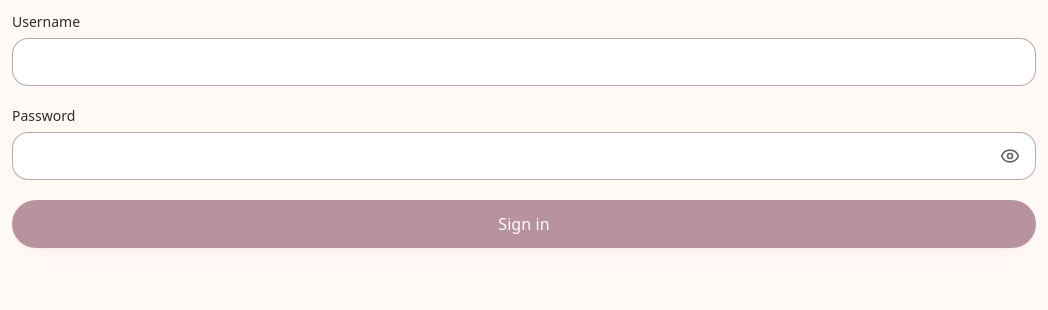
SignInForm › explains wrong credentials without saying which part was wrong
Type "alex" into the field labelled "Username" at (524, 62), box [12, 38, 1036, 86]
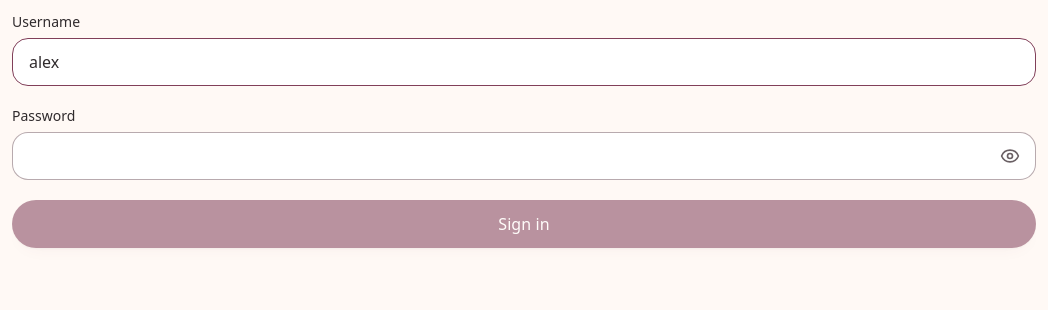
Type "correct horse battery" into the password field labelled "Password" at (524, 156), box [12, 132, 1036, 180]
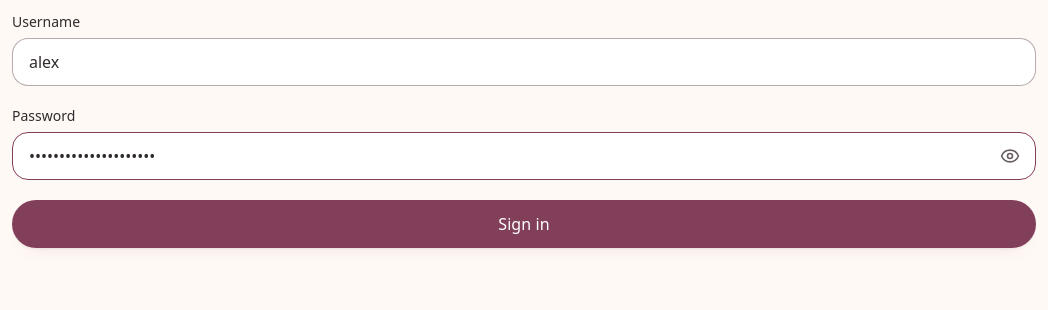
Click the button "Sign in" at (524, 224), box [12, 200, 1036, 248]
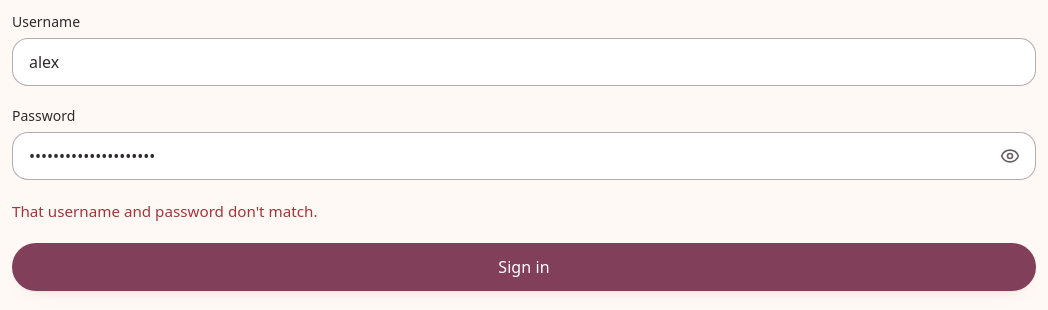
Expected: the message reads "That username and password don't match.", [12, 201, 318, 221]
